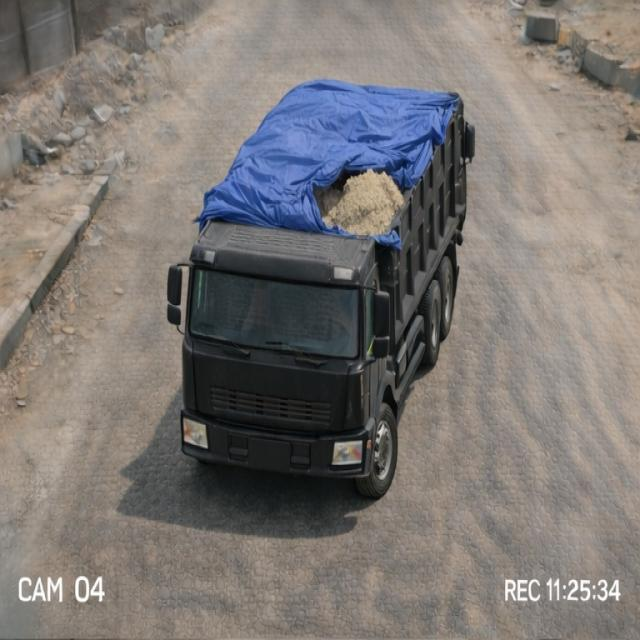Box: (194, 77, 494, 222)
Truck: (167, 57, 504, 495)
